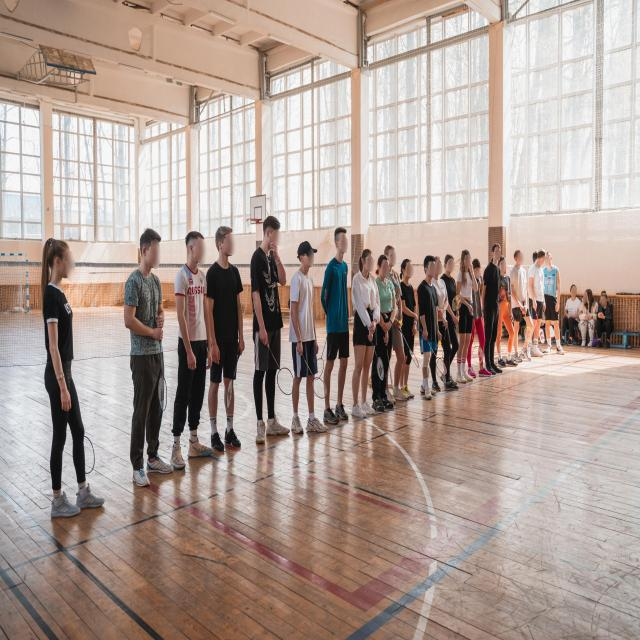Person: (31, 224, 110, 536), (121, 220, 172, 497), (239, 205, 290, 457), (170, 224, 212, 471), (208, 212, 246, 462), (286, 229, 322, 441), (321, 221, 356, 432), (350, 242, 382, 423), (479, 235, 504, 388), (371, 254, 394, 420), (395, 250, 418, 408), (415, 250, 437, 402), (382, 242, 402, 407), (524, 240, 548, 367), (507, 244, 528, 370), (440, 245, 456, 410), (456, 232, 472, 396), (541, 250, 562, 355), (432, 256, 447, 398), (496, 253, 512, 377), (560, 276, 584, 355), (578, 276, 602, 345), (594, 286, 617, 347)
